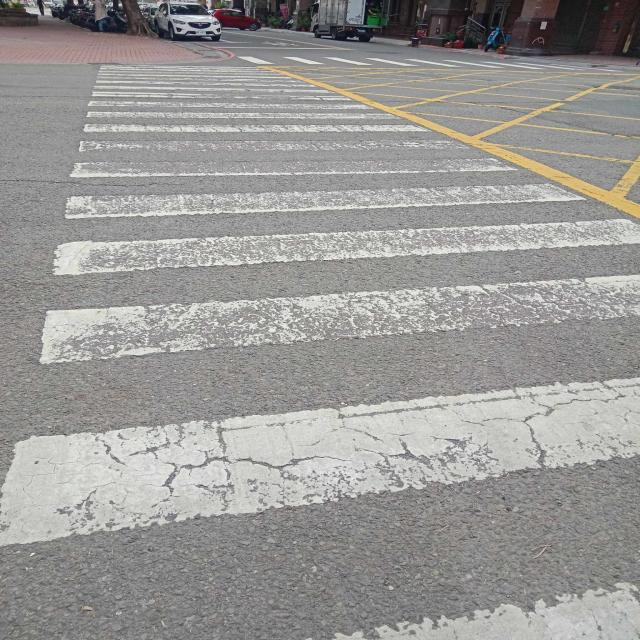zebra_crossing: (108, 21, 364, 85), (505, 194, 640, 261)
